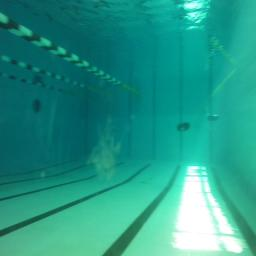Full: (176, 122, 190, 131), (208, 114, 219, 122)
